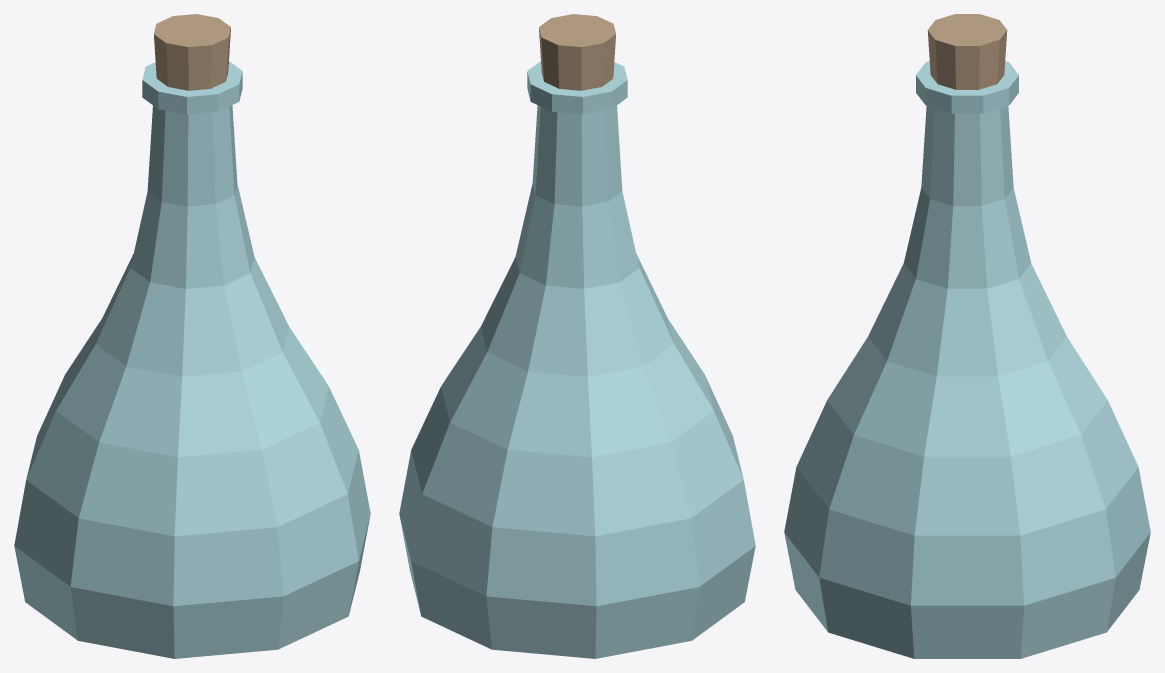
Rendered from Bottle_11.fbx.
The picture shows the model from 3 angles, left to right: view 1: azimuth 30°, elevation 25°; view 2: azimuth 150°, elevation 25°; view 3: azimuth 270°, elevation 25°; orthographic projection.
Visible parts, largest first — view 1: Bottle_11; view 2: Bottle_11; view 3: Bottle_11.
Part boxes in pixels (x1=…): Bottle_11: x1=14, y1=14, x2=370, y2=658; Bottle_11: x1=399, y1=14, x2=755, y2=658; Bottle_11: x1=784, y1=14, x2=1150, y2=658.
Bounding box in the file's own units: 4.45 × 7.88 × 4.68.
